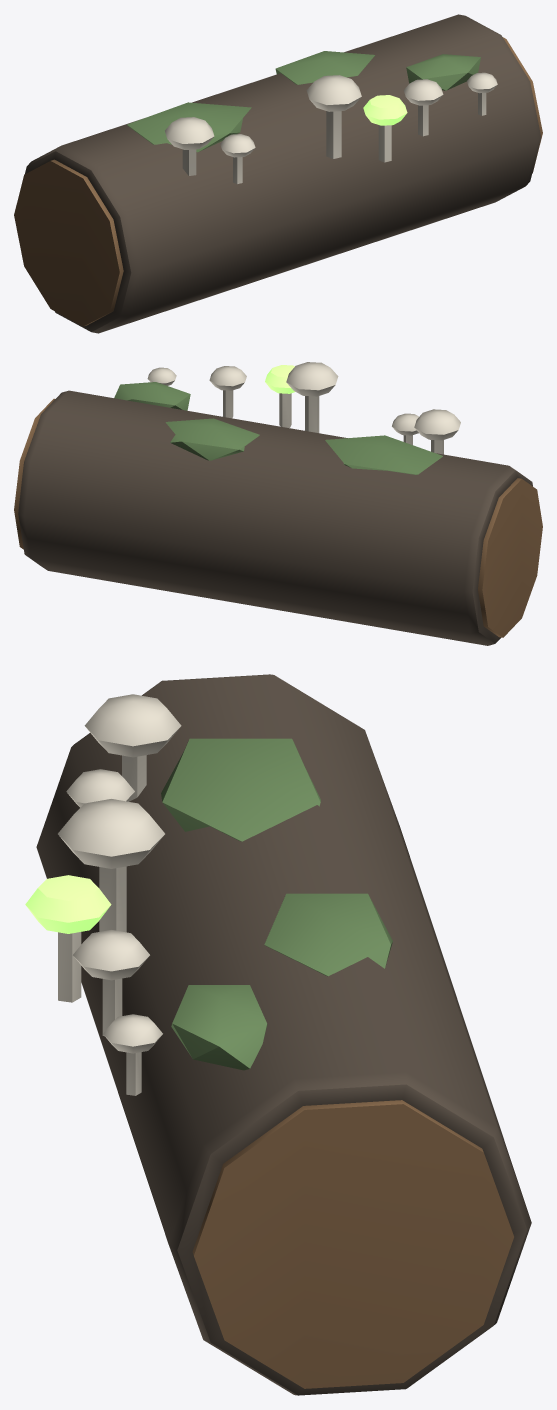
The model's file is log_mushroom.glb.
3 views of the same model, one above another, from view 1: azimuth 30°, elevation 25°; view 2: azimuth 150°, elevation 25°; view 3: azimuth 270°, elevation 25° (orthographic). The views are drawn at different scales.
Parts seen in each view (by area): view 1: log_mushroom, glow; view 2: log_mushroom, glow; view 3: log_mushroom, glow.
Part boxes in pixels (x1,y1,x2,y2): log_mushroom: (14, 14, 542, 333); glow: (363, 95, 407, 125); log_mushroom: (14, 362, 542, 645); glow: (265, 365, 295, 393); log_mushroom: (36, 674, 531, 1395); glow: (25, 875, 111, 933).
Size of the model in its own units: 0.9696 by 0.4042 by 0.4696.
